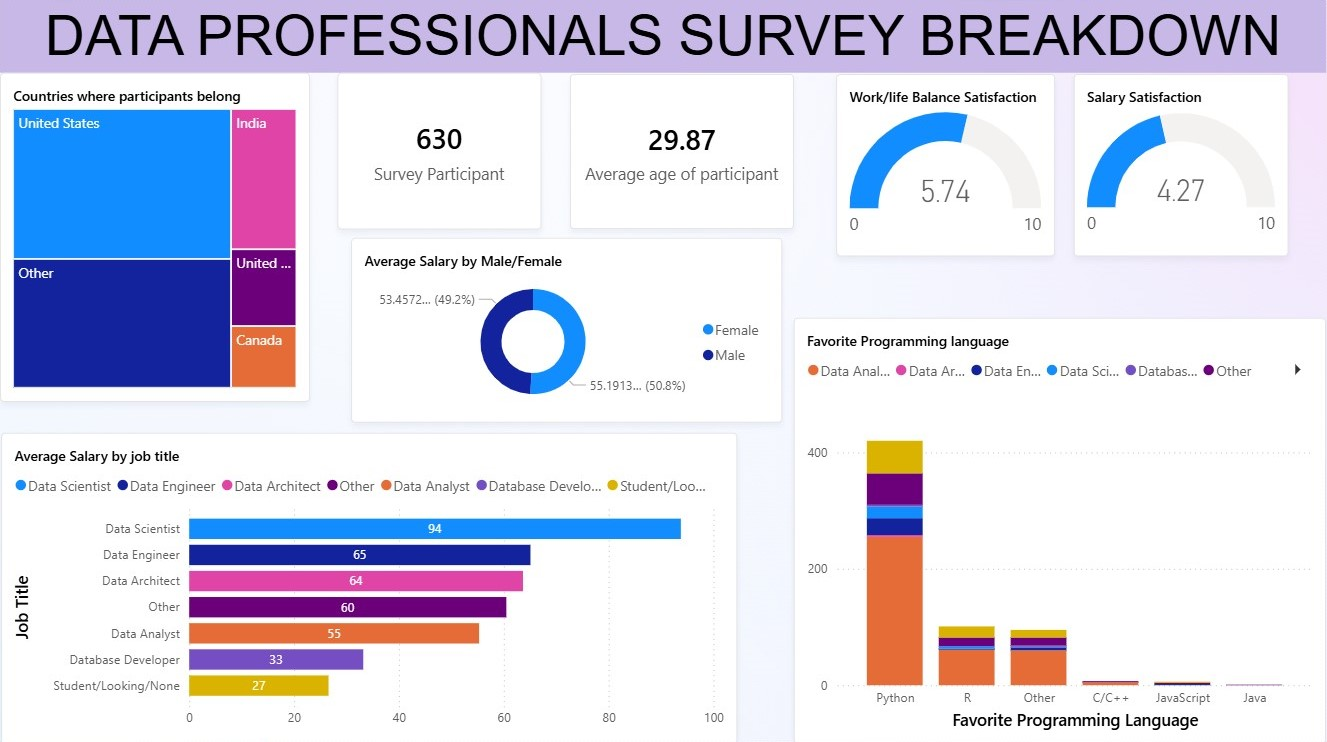

The dashboard page shown, as its layout file describes it:
{"tool":"powerbi","page":{"name":"Page 1","canvas":[1280,720],"ordinal":0},"visuals":[{"type":"textbox","box":[0,0,1280.3,71.4],"z":0},{"type":"card","fields":{"Values":["Count(Data Professional Survey.Unique ID)"]},"box":[325.7,71.2,196.6,150.8],"z":1000},{"type":"card","fields":{"Values":["Avg(Data Professional Survey.Q10 - Current Age)"]},"box":[550.1,72.4,216,149.6],"z":2000},{"type":"barChart","title":"Average Salary by job title","fields":{"Category":["Data Professional Survey.Q1 - Which Title Best Fits your Current Role?.1"],"Y":["Avg(Data Professional Survey.Average Salary)"],"Series":["Data Professional Survey.Q1 - Which Title Best Fits your Current Role?.1"]},"box":[1.2,418.6,710.6,301.6],"z":3000},{"type":"columnChart","title":"Favorite Programming language","fields":{"Category":["Data Professional Survey.Q5 - Favorite Programming Language.1"],"Y":["CountNonNull(Data Professional Survey.Unique ID)"],"Series":["Data Professional Survey.Q1 - Which Title Best Fits your Current Role?.1"]},"box":[766.1,307.6,513.9,411.4],"z":4000},{"type":"treemap","title":"Countries where participants belong","fields":{"Group":["Data Professional Survey.Q11 - Which Country do you live in?.1"],"Values":["CountNonNull(Data Professional Survey.Q11 - Which Country do you live in?.1)"]},"box":[0,71.2,299.2,317.3],"z":5000},{"type":"gauge","title":"Work/life Balance Satisfaction","fields":{"Y":["Avg(Data Professional Survey.Q6 - How Happy are you in your Current Position with the following? (Work/Life Balance))"],"MinValue":["Min(Data Professional Survey.Q6 - How Happy are you in your Current Position with the following? (Work/Life Balance))"],"MaxValue":["Max(Data Professional Survey.Q6 - How Happy are you in your Current Position with the following? (Work/Life Balance))1"]},"box":[807.1,72.4,211.1,176.1],"z":6000},{"type":"gauge","title":"Salary Satisfaction","fields":{"Y":["Avg(Data Professional Survey.Q6 - How Happy are you in your Current Position with the following? (Salary))"],"MinValue":["Min(Data Professional Survey.Q6 - How Happy are you in your Current Position with the following? (Salary))"],"MaxValue":["Max(Data Professional Survey.Q6 - How Happy are you in your Current Position with the following? (Salary))1"]},"box":[1036.3,72.4,207.5,176.1],"z":7000},{"type":"donutChart","title":"Average Salary by Male/Female","fields":{"Category":["Data Professional Survey.Q9 - Male/Female?"],"Y":["Avg(Data Professional Survey.Average Salary)"]},"box":[339,230.4,416.2,178.6],"z":8000}]}

Visuals, with their boxes in screenshot pixels (x1, y1, x2, y2), scaled from the page's 1280x720 canvas onto the 1327x742 screenshot:
textbox: <box>0,0,1326,74</box>
card - Count(Data Professional Survey.Unique ID): <box>338,73,541,229</box>
card - Avg(Data Professional Survey.Q10 - Current Age): <box>570,75,794,229</box>
"Average Salary by job title" barChart: <box>1,431,738,741</box>
"Favorite Programming language" columnChart: <box>794,317,1326,741</box>
"Countries where participants belong" treemap: <box>0,73,310,400</box>
"Work/life Balance Satisfaction" gauge: <box>837,75,1056,256</box>
"Salary Satisfaction" gauge: <box>1074,75,1289,256</box>
"Average Salary by Male/Female" donutChart: <box>351,237,783,421</box>
